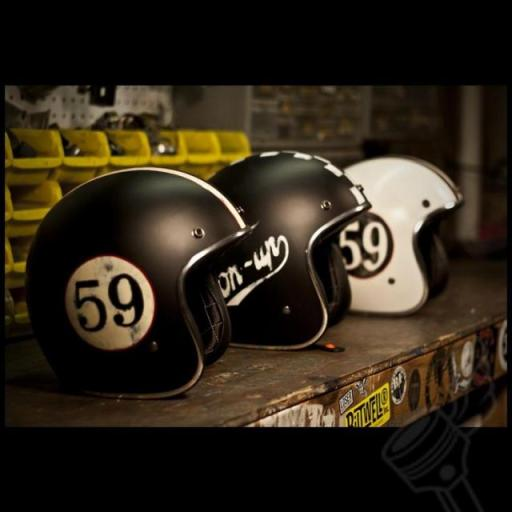Helmet: (26, 167, 227, 400), (191, 149, 364, 360), (324, 143, 464, 324)
